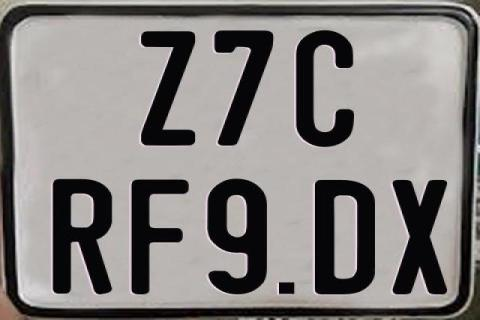0: (213, 31, 278, 149), (205, 178, 269, 294)
C: (294, 31, 357, 151)
D: (314, 180, 376, 297)
F: (129, 178, 187, 294)
R: (52, 179, 117, 295)
X: (392, 180, 453, 296)
Z: (138, 31, 196, 149)
